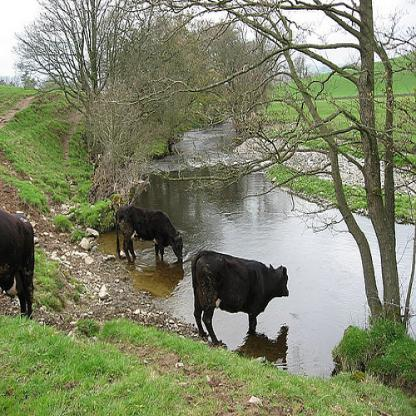cow: (190, 248, 288, 348), (114, 205, 186, 266), (0, 210, 34, 317)
